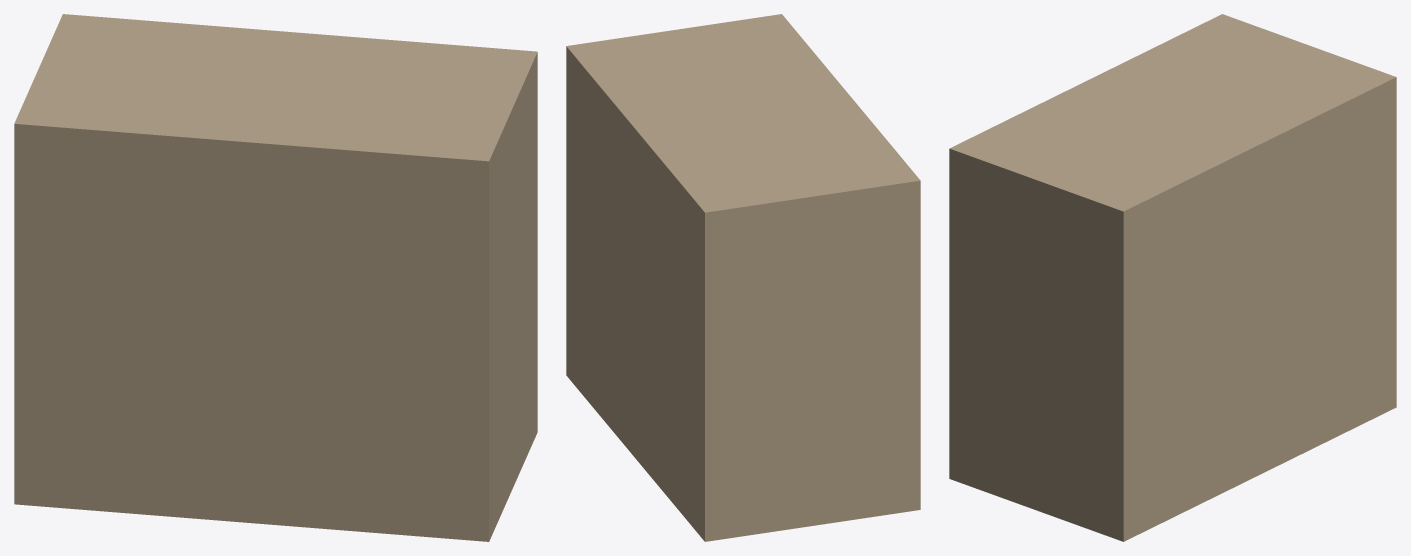
File: bld_164605944.dae
3 views of the same model, side by side, from view 1: azimuth 30°, elevation 25°; view 2: azimuth 150°, elevation 25°; view 3: azimuth 270°, elevation 25° (orthographic). The views are drawn at different scales.
Parts seen in each view (by area): view 1: bld_164605944; view 2: bld_164605944; view 3: bld_164605944.
Part boxes in pixels (<box>): bld_164605944: <box>14,14,537,541</box>; bld_164605944: <box>566,14,920,541</box>; bld_164605944: <box>949,14,1396,541</box>.
Size of the model in its own units: 10.26 by 9.81 by 8.
